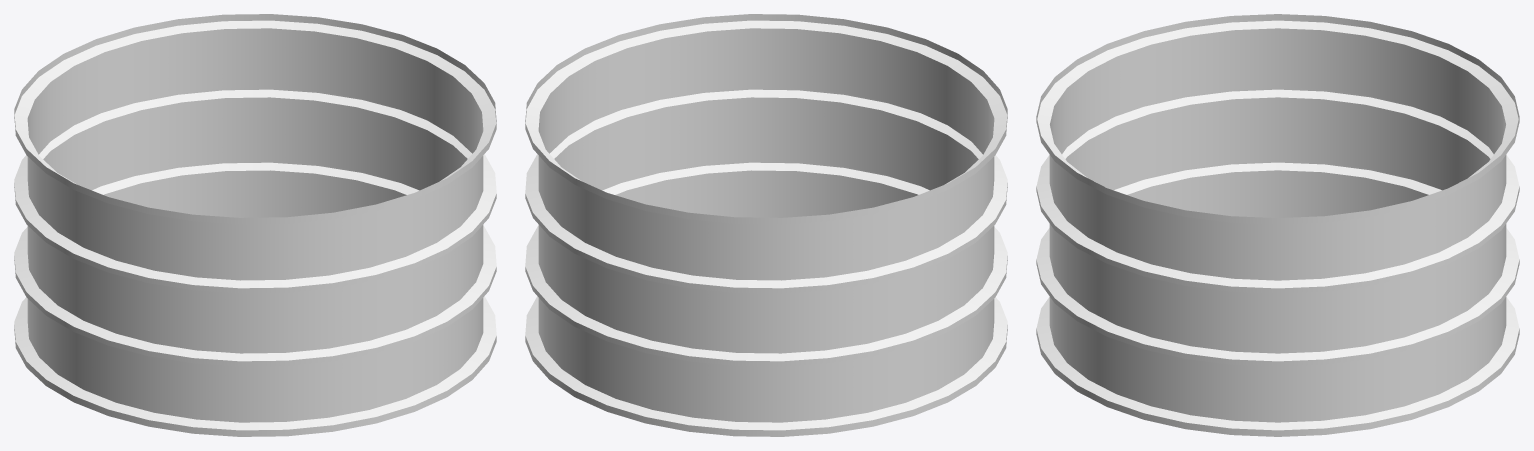
File: drainage-pipe-unit-authored-atlas.glb
3 renders of one model, left to right at view 1: azimuth 30°, elevation 25°; view 2: azimuth 150°, elevation 25°; view 3: azimuth 270°, elevation 25°, orthographic.
Visible parts, largest first — view 1: Authored surface; view 2: Authored surface; view 3: Authored surface.
Boxes of the visible parts, x1=… form: Authored surface: x1=14, y1=14, x2=496, y2=436; Authored surface: x1=525, y1=14, x2=1007, y2=436; Authored surface: x1=1036, y1=14, x2=1519, y2=436.
Bounding box in the file's own units: 2 × 1 × 2.
Materials: 1 (1 with a texture image).
